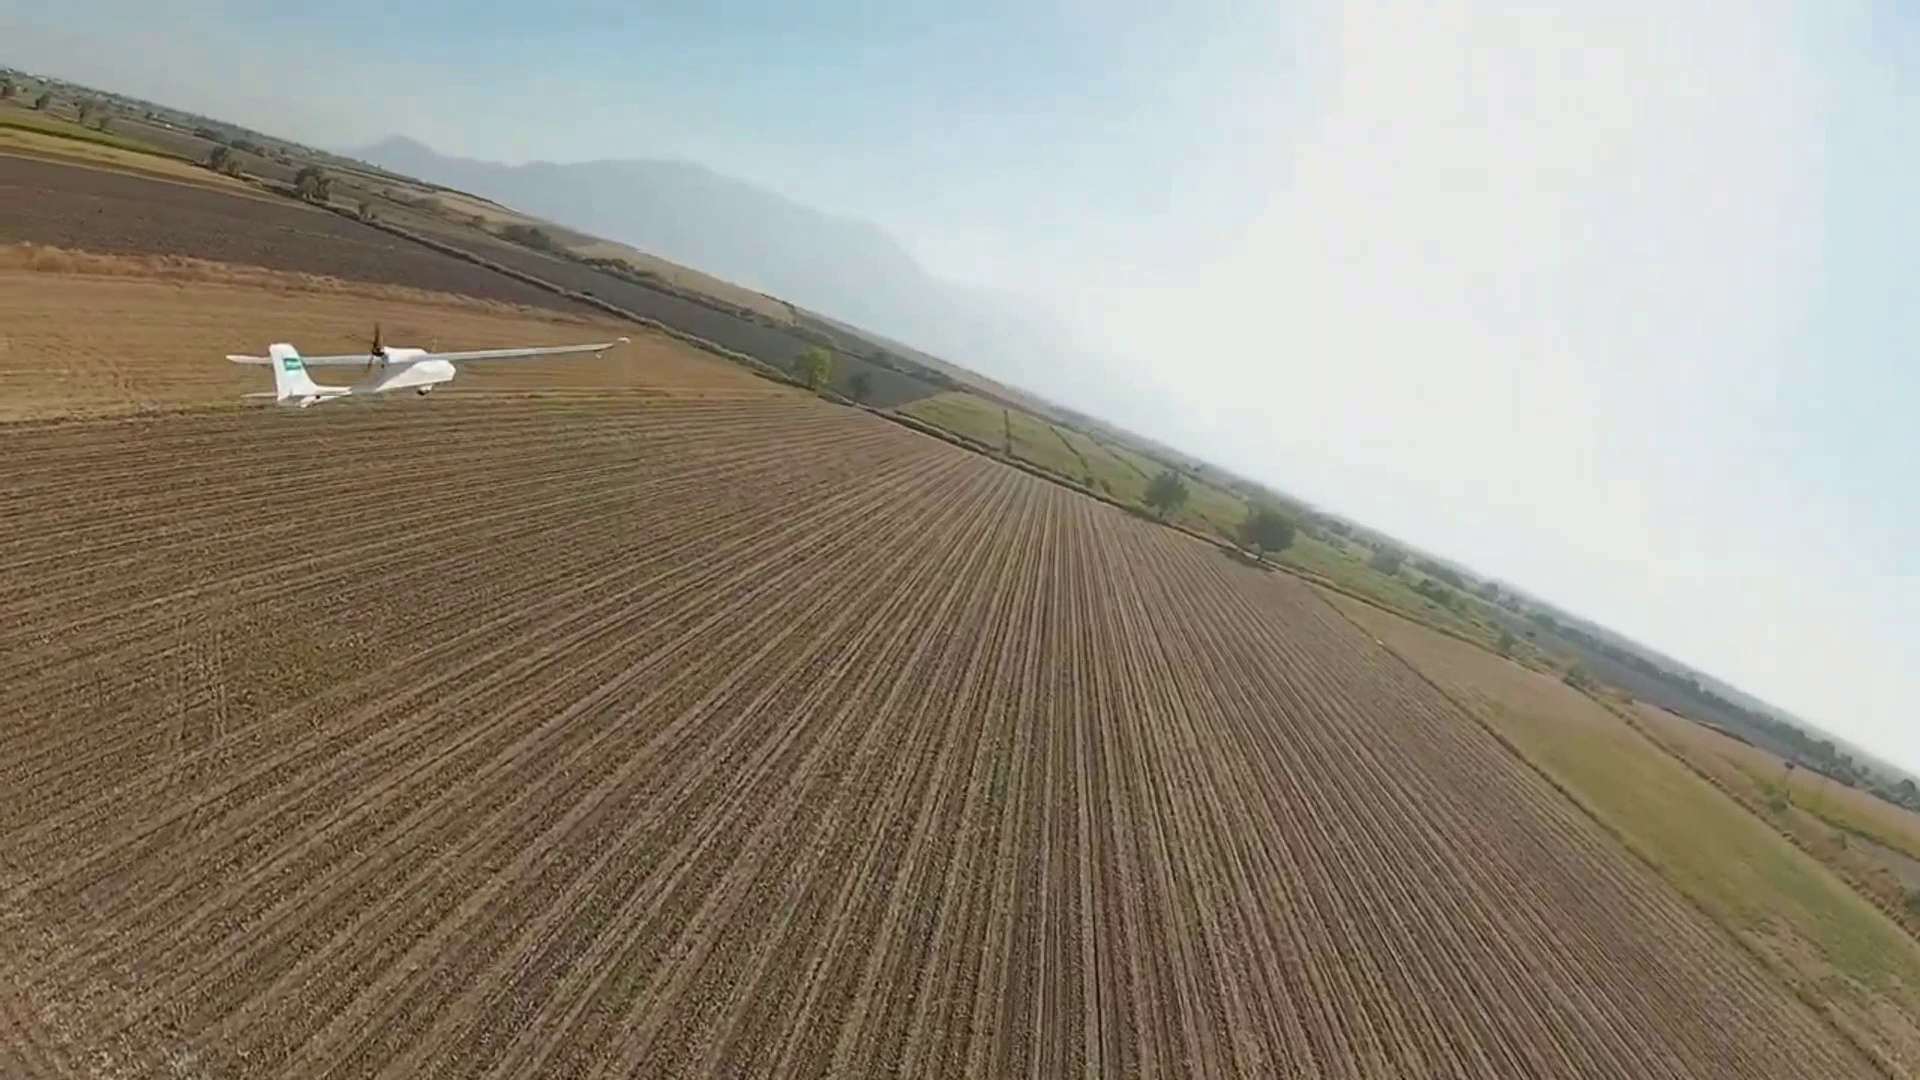airplane: (224, 328, 455, 410)
